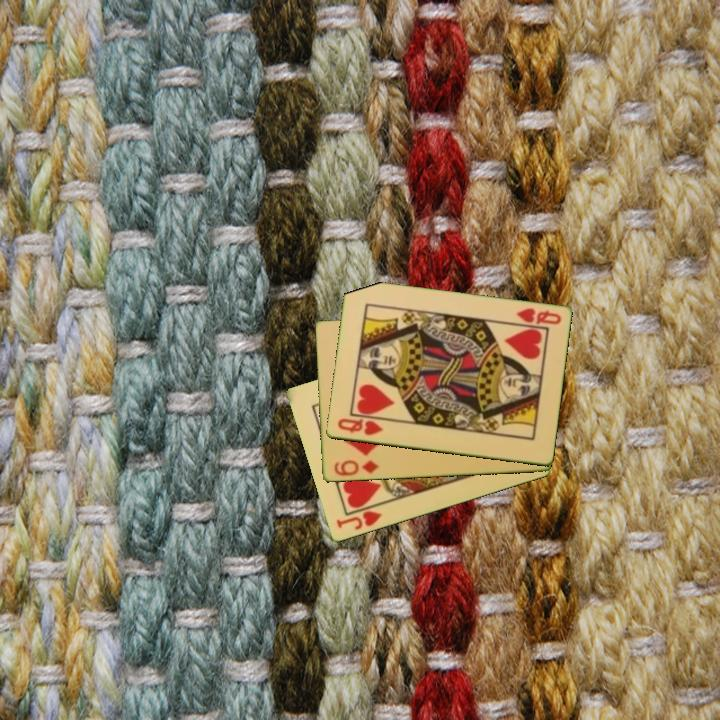6d: (330, 457, 381, 479)
Jh: (333, 508, 385, 533)
Qh: (334, 415, 386, 439), (513, 305, 564, 328)
